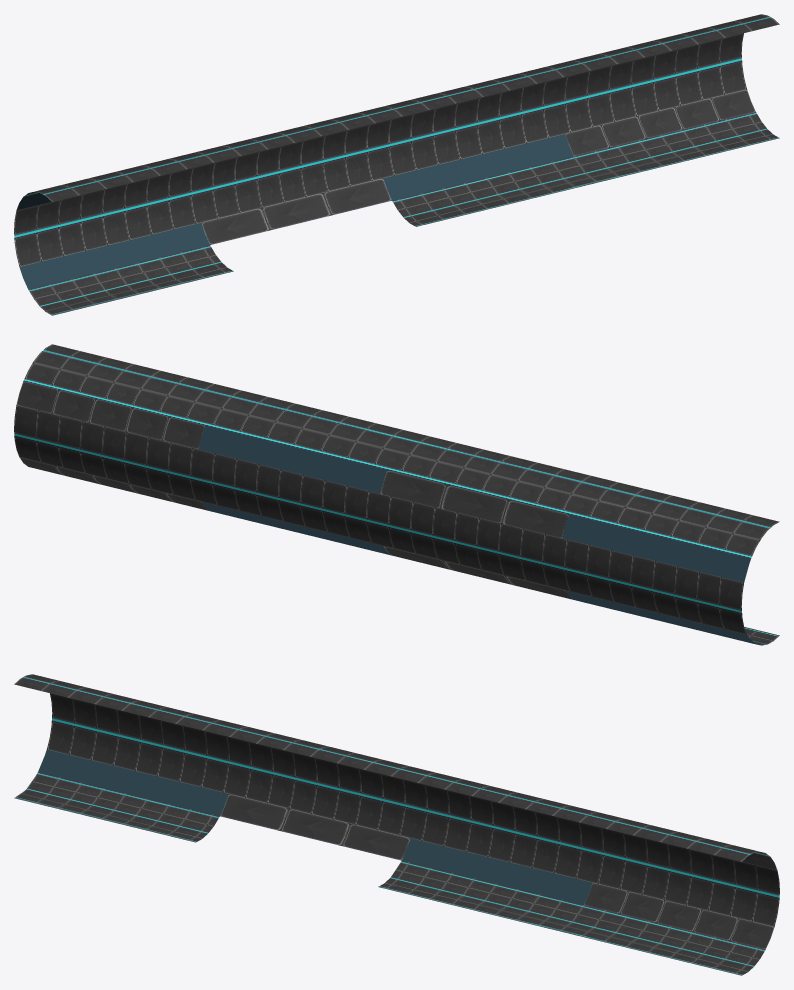
File: semicircle_Left.fbx
The picture shows the model from 3 angles, top to bottom: view 1: azimuth 30°, elevation 25°; view 2: azimuth 150°, elevation 25°; view 3: azimuth 330°, elevation 25°; orthographic projection.
Parts seen in each view (by area): view 1: tube, windows; view 2: tube, windows; view 3: tube, windows.
Part boxes in pixels (x1,y1,x2,y2): tube: [14, 14, 779, 315]; windows: [16, 134, 573, 289]; tube: [14, 344, 779, 645]; windows: [198, 425, 755, 644]; tube: [14, 674, 779, 975]; windows: [38, 749, 592, 904].
Bounding box in the file's own units: 3688 × 561 × 335.
